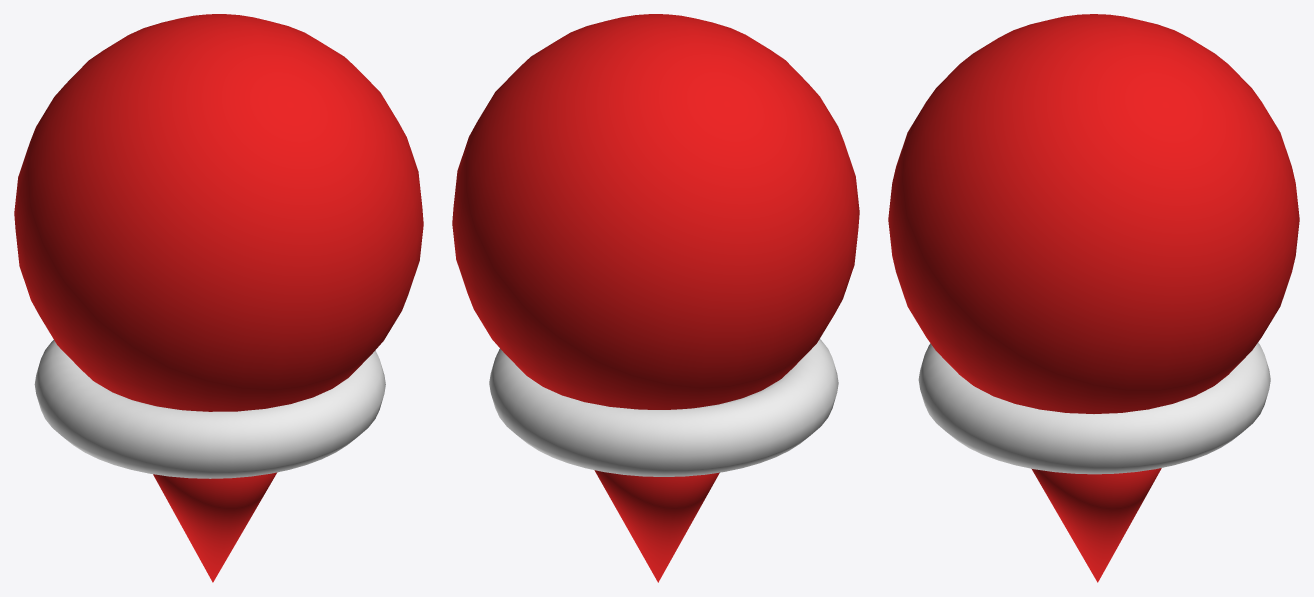
Rendered from pin.glb.
3 views of the same model, side by side, from view 1: azimuth 30°, elevation 25°; view 2: azimuth 150°, elevation 25°; view 3: azimuth 270°, elevation 25° (orthographic).
Parts seen in each view (by area): view 1: 球, トーラス, 円錐; view 2: 球, トーラス, 円錐; view 3: 球, トーラス, 円錐.
Boxes of the visible parts, left/top/right/bottom form: 球: left=14, top=14, right=423, bottom=411; トーラス: left=34, top=340, right=385, bottom=478; 円錐: left=153, top=472, right=277, bottom=582; 球: left=452, top=14, right=859, bottom=409; トーラス: left=489, top=339, right=838, bottom=476; 円錐: left=594, top=470, right=719, bottom=582; 球: left=888, top=14, right=1299, bottom=413; トーラス: left=918, top=342, right=1270, bottom=474; 円錐: left=1031, top=468, right=1161, bottom=582.
Bounding box in the file's own units: 4.37 × 6.47 × 4.37.
